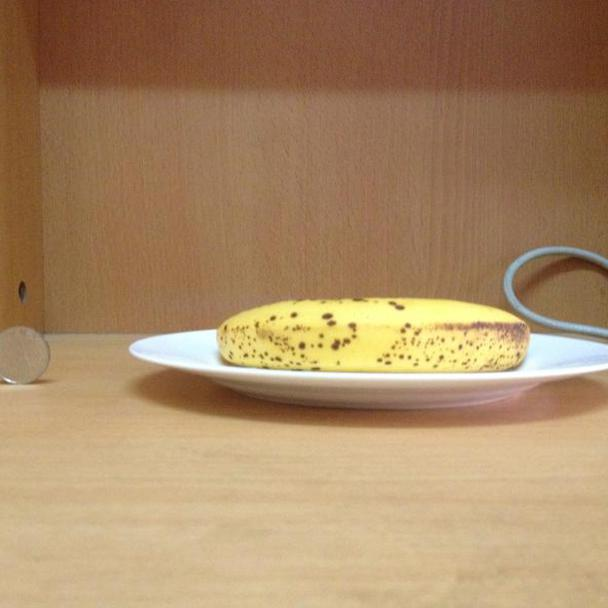banana: (223, 296, 530, 378)
